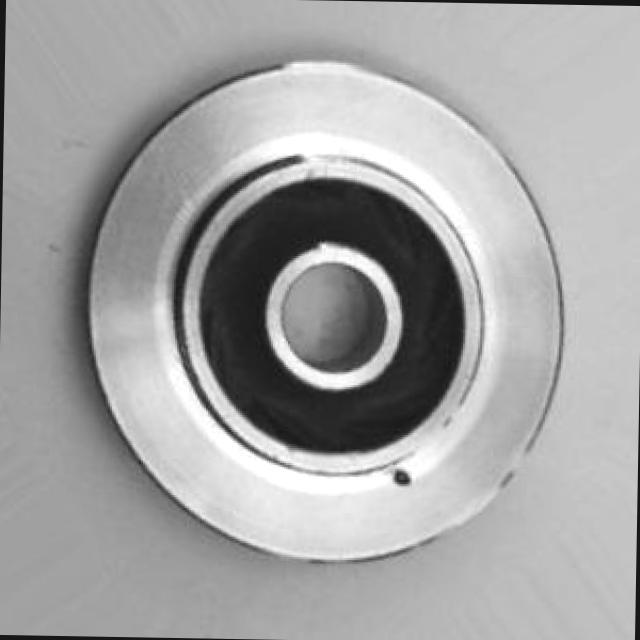Defect: (392, 464, 422, 499)
